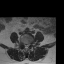CCS_normal: (25, 42, 27, 49)
LFS_severe_stenosis: (29, 42, 31, 47)
LLS_normal: (27, 42, 29, 47)
RFS_stenosis: (22, 41, 23, 47)
RLS_normal: (23, 42, 25, 48)
